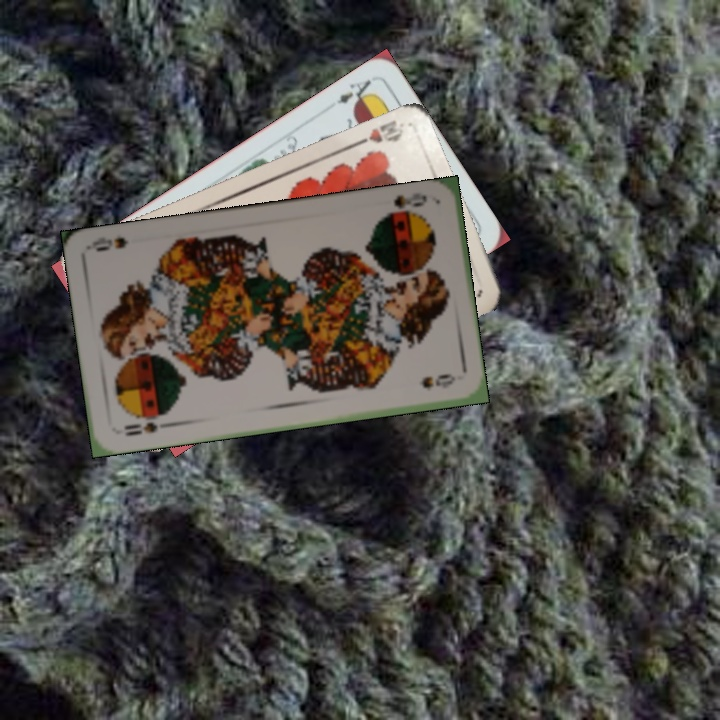EA: (333, 75, 380, 111)
H10: (350, 115, 407, 150)
SO: (377, 188, 430, 221), (120, 411, 173, 439)
